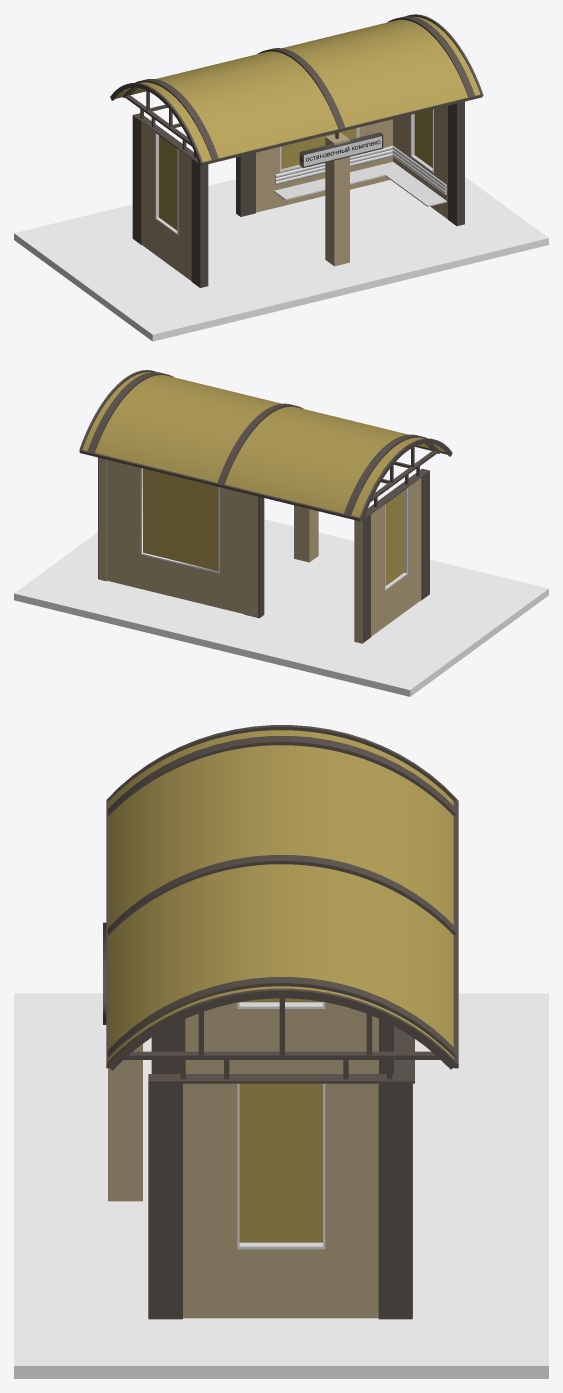
The model's file is «ßÔá¡«ó¬á ¬½áßß¡á´.fbx.
The picture shows the model from 3 angles, top to bottom: view 1: azimuth 30°, elevation 25°; view 2: azimuth 150°, elevation 25°; view 3: azimuth 270°, elevation 25°; orthographic projection. The views are drawn at different scales.
Visible parts, largest first — view 1: Box12, Loft01, Line01, Rectangle05, Box08, Line20, Box13, Line03, Box16, Box01, Box14, Box17 (+13 smaller); view 2: Box12, Loft01, Rectangle05, Box05, Line01, Box01, Box08, Loft35, Box14, Box13, Line20, Arc03 (+8 smaller); view 3: Box12, Loft01, Line20, Box04, Line01, Box15, Box16, Box08, Arc10, Arc03, Arc07, Arc08 (+7 smaller).
Boxes of the visible parts, <box> form: Box12: <box>14,177,548,341</box>; Loft01: <box>116,16,480,162</box>; Line01: <box>141,122,191,280</box>; Rectangle05: <box>256,119,392,212</box>; Box08: <box>325,133,349,266</box>; Line20: <box>393,106,447,219</box>; Box13: <box>191,159,208,287</box>; Line03: <box>274,162,446,206</box>; Box16: <box>448,101,464,226</box>; Box01: <box>159,135,177,230</box>; Box14: <box>132,115,141,244</box>; Box17: <box>236,152,255,216</box>; Box12: <box>14,519,548,696</box>; Loft01: <box>82,372,445,517</box>; Rectangle05: <box>107,460,258,617</box>; Box05: <box>143,468,218,570</box>; Line01: <box>354,478,421,643</box>; Box01: <box>385,491,404,585</box>; Box08: <box>294,505,318,562</box>; Loft35: <box>79,450,360,521</box>; Box14: <box>356,514,370,643</box>; Box13: <box>421,471,429,600</box>; Line20: <box>98,458,106,580</box>; Arc03: <box>343,434,439,515</box>; Box12: <box>14,993,548,1378</box>; Loft01: <box>109,730,453,1059</box>; Line20: <box>183,1083,412,1318</box>; Box04: <box>239,1083,322,1242</box>; Line01: <box>185,1002,378,1073</box>; Box15: <box>378,1082,412,1319</box>; Box16: <box>148,1074,182,1319</box>; Box08: <box>108,1044,142,1201</box>; Arc10: <box>106,988,457,1070</box>; Arc03: <box>107,736,456,815</box>; Arc07: <box>107,855,456,934</box>; Arc08: <box>107,977,456,1056</box>.
Bounding box in the file's own units: 10140 × 4433 × 6153.
